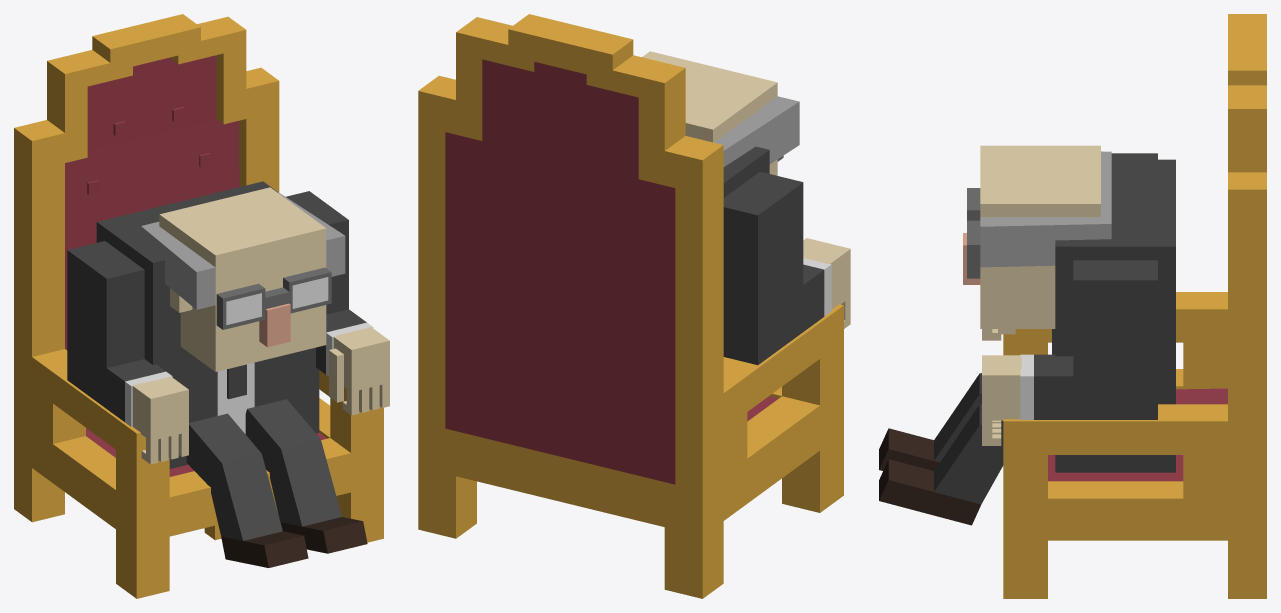
The model's file is 5th boss.fbx.
3 views of the same model, side by side, from view 1: azimuth 30°, elevation 25°; view 2: azimuth 150°, elevation 25°; view 3: azimuth 270°, elevation 25° (orthographic). The views are drawn at different scales.
Parts seen in each view (by area): view 1: Cube.012, Cube.001, Cube.005, Cube.004, Cube, Cube.013, Cube.003, Cube.002, Cube.014; view 2: Cube.012, Cube.004, Cube.001, Cube.013, Cube; view 3: Cube.012, Cube.001, Cube.004, Cube, Cube.005, Cube.013, Cube.003.
Part boxes in pixels (left/top/right/bottom): Cube.012: left=14, top=14, right=383, bottom=598; Cube.001: left=141, top=187, right=345, bottom=371; Cube.005: left=186, top=399, right=367, bottom=567; Cube.004: left=67, top=191, right=373, bottom=426; Cube: left=96, top=181, right=319, bottom=468; Cube.013: left=132, top=327, right=389, bottom=464; Cube.003: left=216, top=267, right=331, bottom=329; Cube.002: left=259, top=303, right=290, bottom=347; Cube.014: left=227, top=364, right=246, bottom=399; Cube.012: left=418, top=14, right=843, bottom=598; Cube.004: left=723, top=171, right=831, bottom=364; Cube.001: left=642, top=51, right=799, bottom=175; Cube.013: left=803, top=238, right=850, bottom=328; Cube: left=723, top=146, right=769, bottom=197; Cube.012: left=1003, top=14, right=1266, bottom=598; Cube.001: left=980, top=145, right=1111, bottom=328; Cube.004: left=1020, top=153, right=1157, bottom=419; Cube: left=1055, top=159, right=1175, bottom=472; Cube.005: left=879, top=373, right=1003, bottom=525; Cube.013: left=982, top=329, right=1021, bottom=445; Cube.003: left=967, top=188, right=980, bottom=278.
Size of the model in its own units: 204 by 357 by 258.
